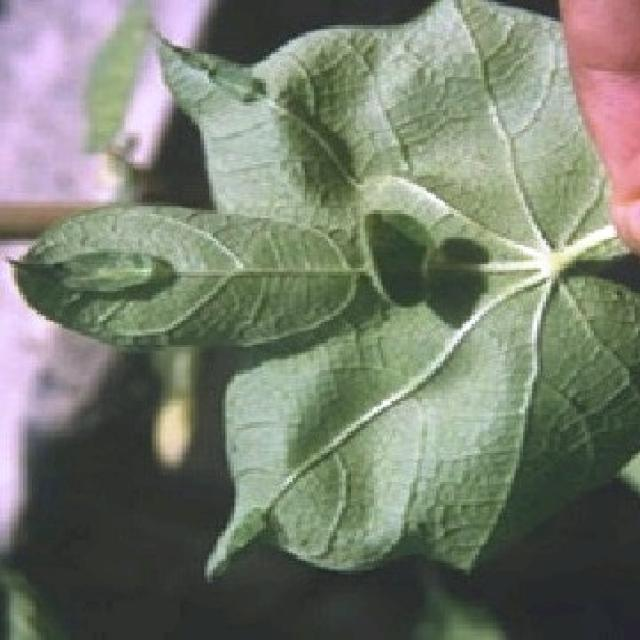Leaf Curl Virus: (41, 180, 596, 390)
